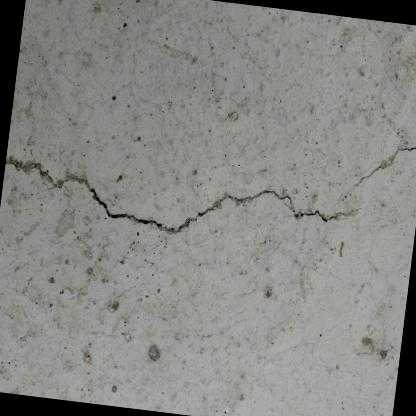crack: (89, 186, 334, 230)
